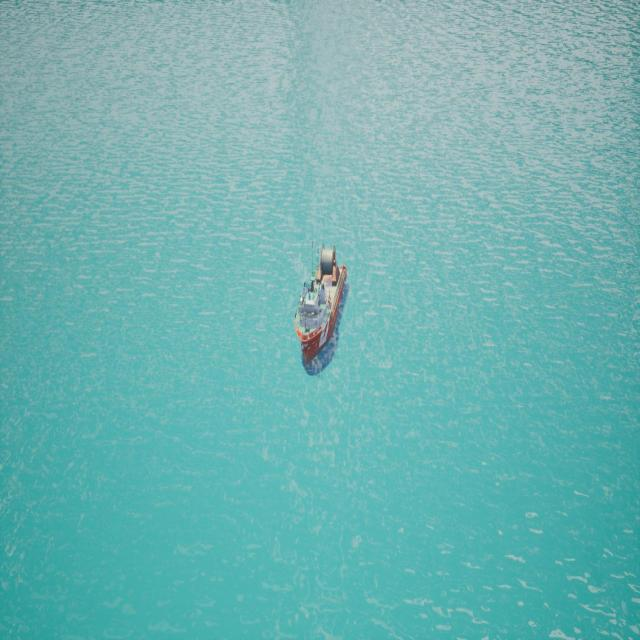tug boat: (288, 229, 352, 380)
